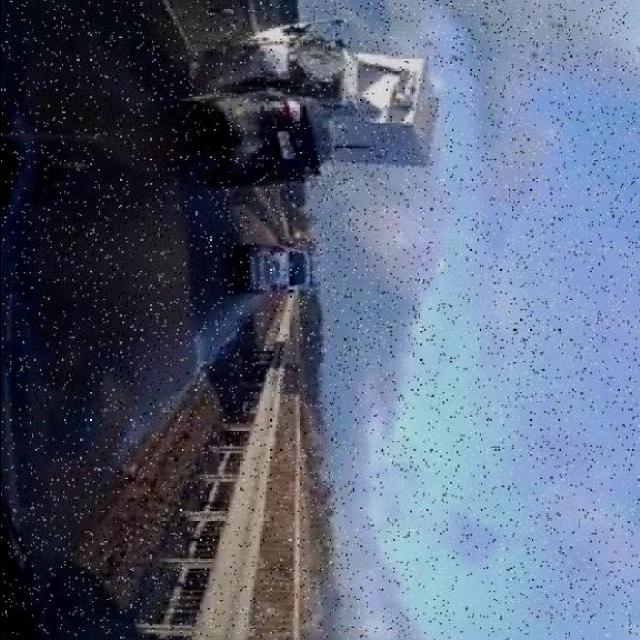accident: (201, 20, 379, 189)
